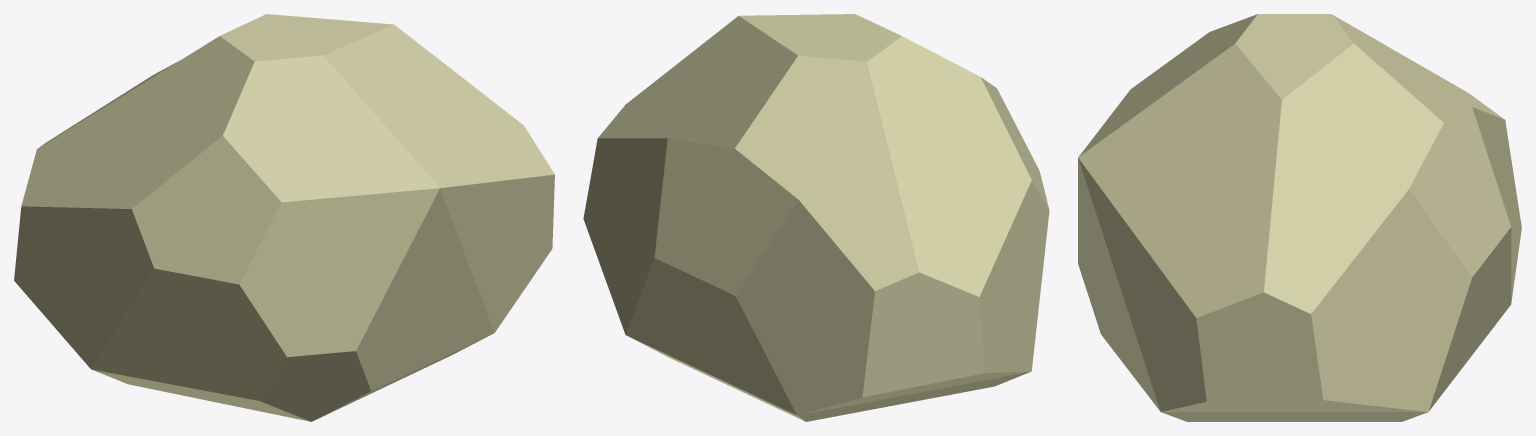
File: roca1.glb
3 views of the same model, side by side, from view 1: azimuth 30°, elevation 25°; view 2: azimuth 150°, elevation 25°; view 3: azimuth 270°, elevation 25° (orthographic). The views are drawn at different scales.
Visible parts, largest first — view 1: Icosphere; view 2: Icosphere; view 3: Icosphere.
Boxes of the visible parts, x1,y1,x2,y2 form: Icosphere: (14,14,554,421); Icosphere: (583,14,1049,421); Icosphere: (1078,14,1521,421).
Size of the model in its own units: 2.13 by 1.45 by 1.74.
